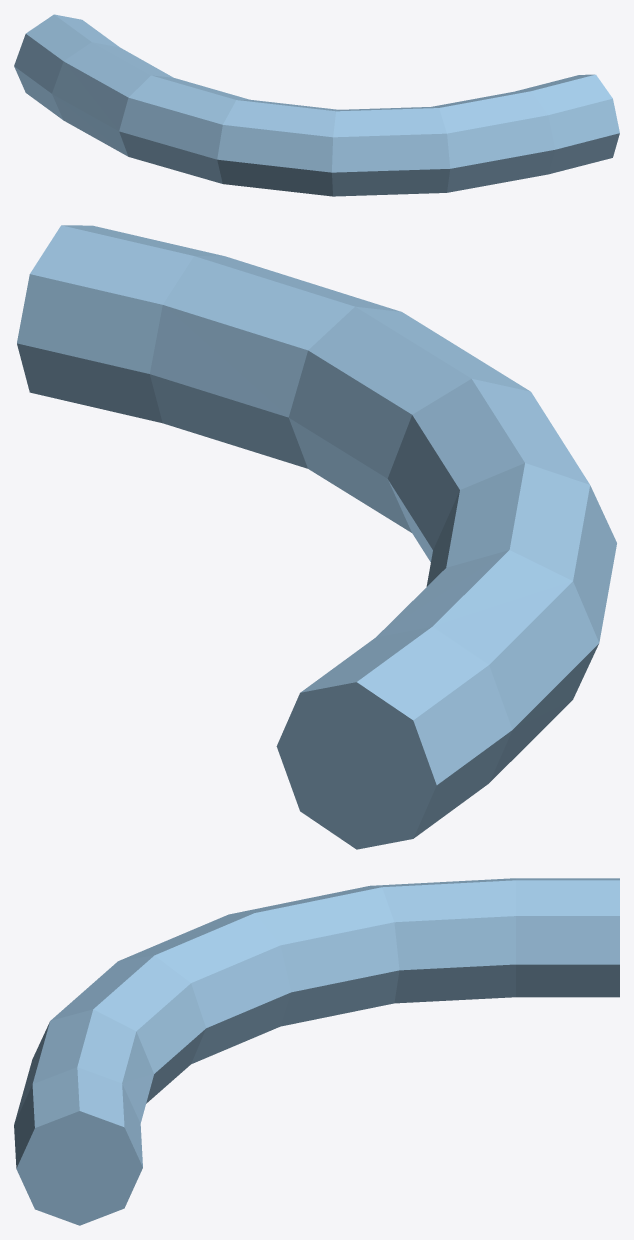
File: trumpet2_2.fbx
3 renders of one model, top to bottom at view 1: azimuth 30°, elevation 25°; view 2: azimuth 150°, elevation 25°; view 3: azimuth 270°, elevation 25°, orthographic. The views are drawn at different scales.
Parts seen in each view (by area): view 1: Cylinder_4; view 2: Cylinder_4; view 3: Cylinder_4.
Part boxes in pixels (x1=…): Cylinder_4: x1=14, y1=14, x2=619, y2=196; Cylinder_4: x1=17, y1=225, x2=616, y2=849; Cylinder_4: x1=14, y1=878, x2=619, y2=1225.
Size of the model in its own units: 146 by 30.3 by 145.
